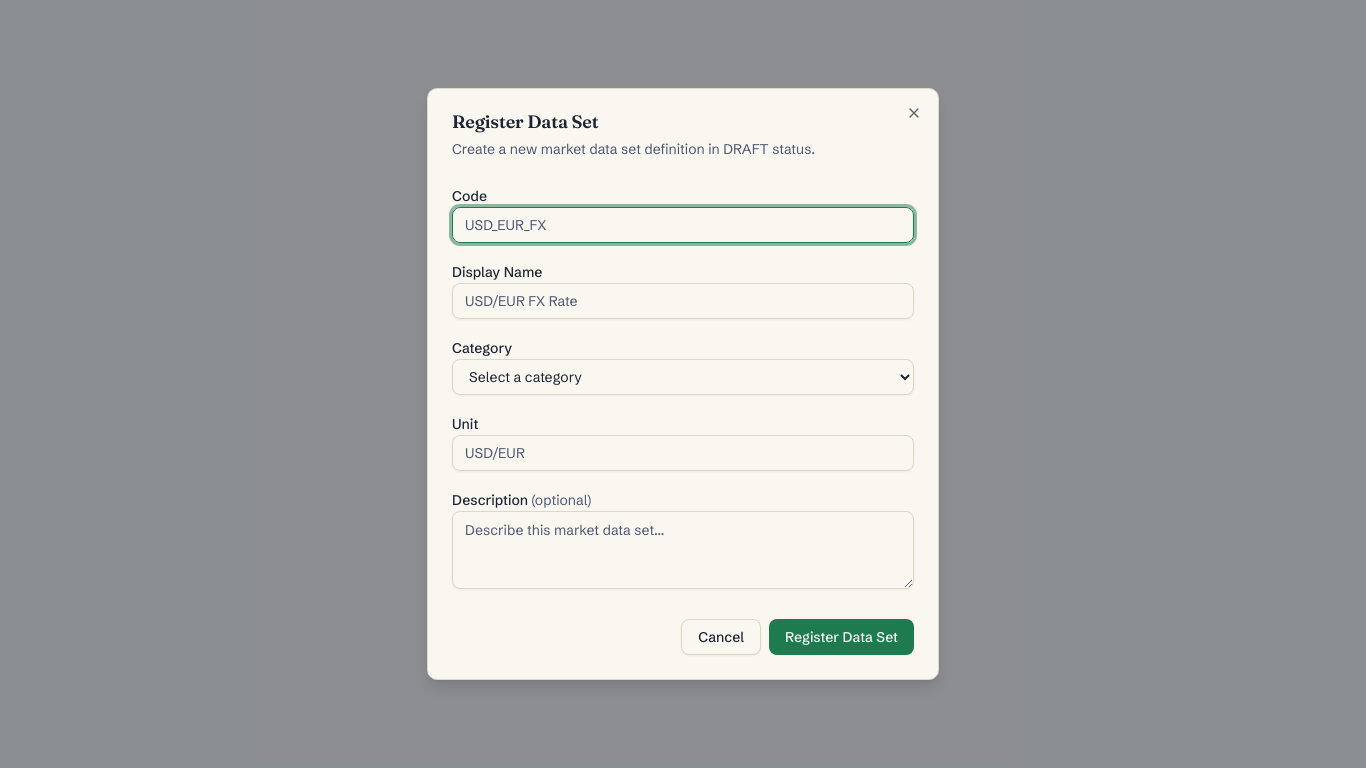
Test: RegisterDataSetDialog - code validation › shows error when code is empty
Click the button "Register Data Set" at (842, 637), box [769, 619, 914, 655]
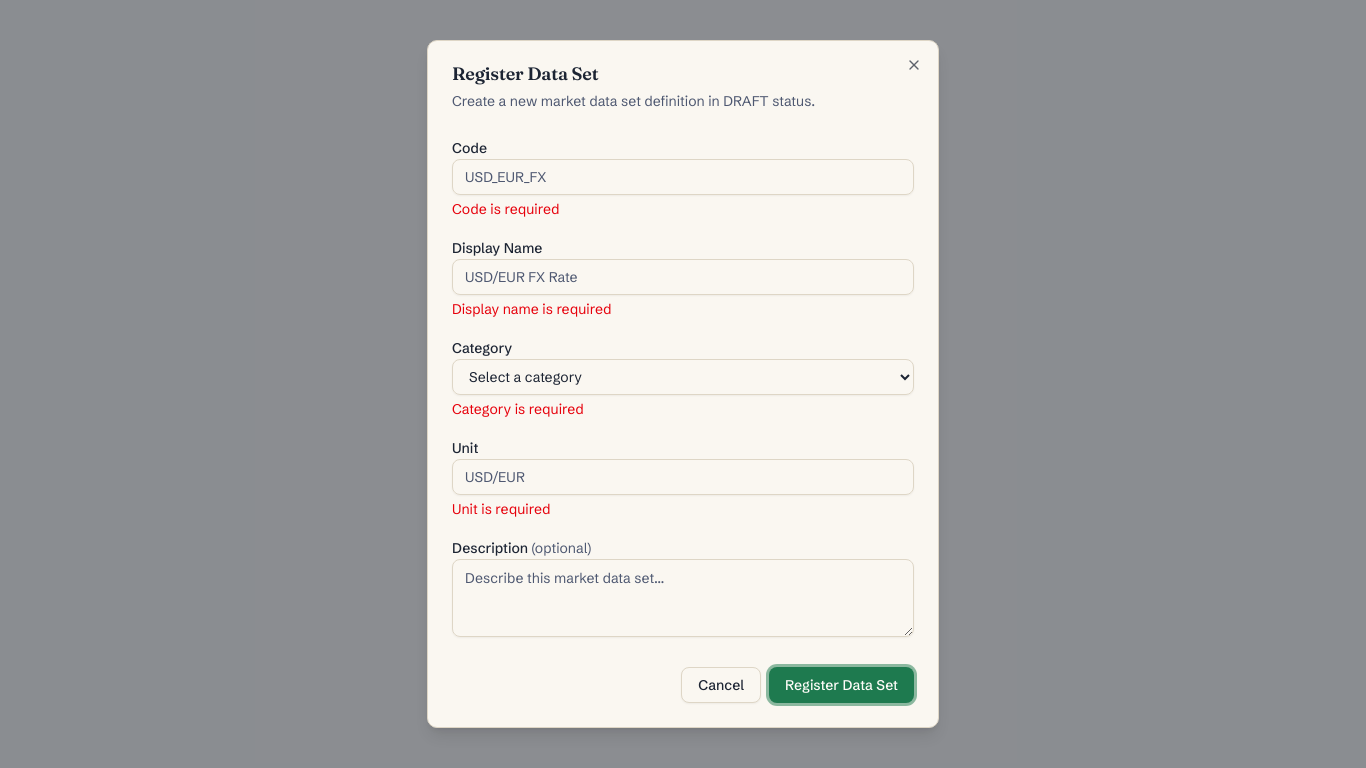
expect the text "Code is required" is shown: met, box [452, 200, 560, 218]
